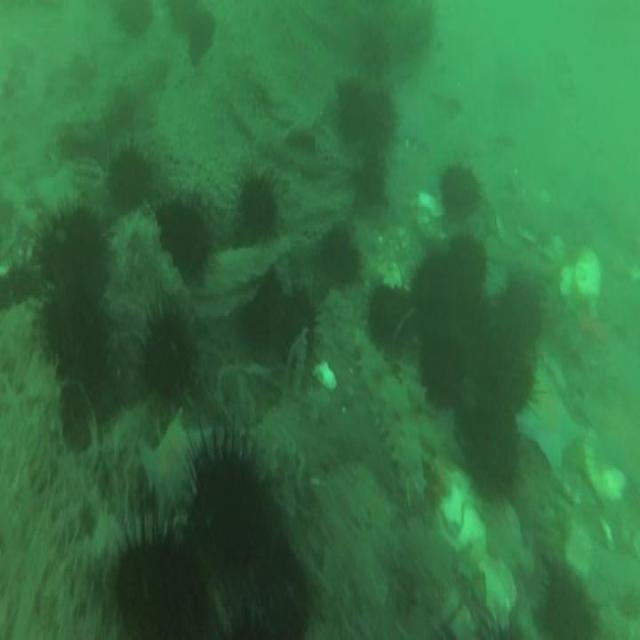echinus: (113, 537, 196, 640), (198, 450, 268, 561), (466, 292, 530, 411), (42, 291, 110, 400), (36, 208, 106, 292), (466, 409, 522, 498), (538, 569, 602, 640), (140, 314, 194, 398), (155, 202, 209, 272), (420, 326, 464, 406), (246, 268, 286, 350), (414, 261, 459, 330), (367, 284, 410, 351), (448, 234, 487, 302), (108, 148, 148, 214), (503, 281, 544, 340), (286, 295, 318, 370), (321, 228, 358, 290), (441, 164, 481, 218), (238, 175, 275, 232), (335, 79, 365, 137), (366, 89, 394, 142), (116, 0, 153, 35), (188, 14, 214, 63)
holothurian: (354, 330, 426, 510)
starfish: (517, 357, 584, 474), (139, 420, 209, 517)
